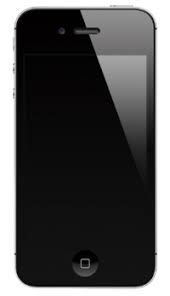iphone: (9, 4, 161, 287)
iphone4: (9, 5, 161, 288)
